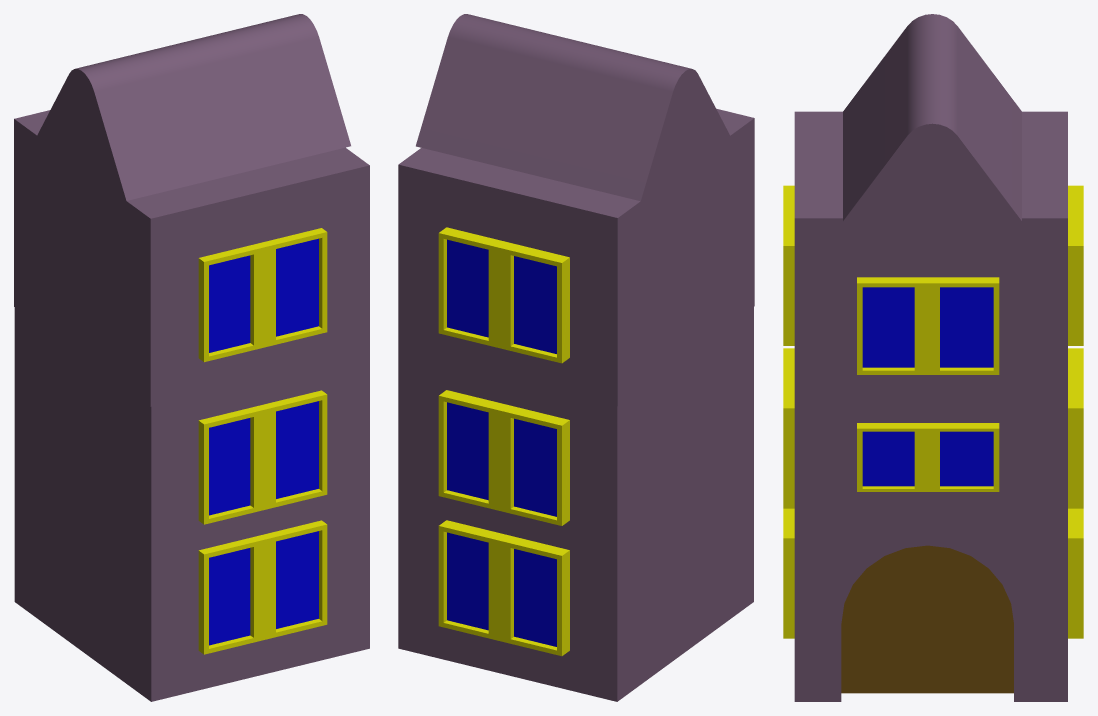
File: B2S2Fix.fbx
3 views of the same model, side by side, from view 1: azimuth 30°, elevation 25°; view 2: azimuth 150°, elevation 25°; view 3: azimuth 270°, elevation 25° (orthographic).
Visible parts, largest first — view 1: polySurface126, pCube33, polySurface29, pCube74, pCube34, pCube36; view 2: polySurface126, pCube33, polySurface29, pCube77, pCube75, pCube76; view 3: polySurface126, pCube33, polySurface29, pCube38, pCube37, pCube75, pCube77, pCube76, pCube36, pCube74, pCube34.
Part boxes in pixels (bbox=[...]): polySurface126: bbox=[14, 307, 369, 701]; pCube33: bbox=[14, 110, 369, 406]; polySurface29: bbox=[37, 14, 350, 200]; pCube74: bbox=[198, 390, 327, 524]; pCube34: bbox=[198, 520, 327, 654]; pCube36: bbox=[198, 228, 327, 362]; polySurface126: bbox=[398, 307, 753, 701]; pCube33: bbox=[398, 108, 754, 406]; polySurface29: bbox=[416, 14, 729, 201]; pCube77: bbox=[438, 227, 569, 363]; pCube75: bbox=[438, 390, 569, 525]; pCube76: bbox=[438, 520, 569, 656]; polySurface126: bbox=[794, 406, 1067, 701]; pCube33: bbox=[794, 111, 1067, 406]; polySurface29: bbox=[843, 14, 1021, 221]; pCube38: bbox=[857, 277, 999, 374]; pCube37: bbox=[857, 423, 999, 491]; pCube75: bbox=[1068, 348, 1083, 508]; pCube77: bbox=[1068, 185, 1083, 345]; pCube76: bbox=[1068, 508, 1083, 638]; pCube36: bbox=[783, 185, 794, 345]; pCube74: bbox=[783, 348, 794, 508]; pCube34: bbox=[783, 508, 794, 638].
Bounding box in the file's own units: 1050 × 2524 × 1181.
